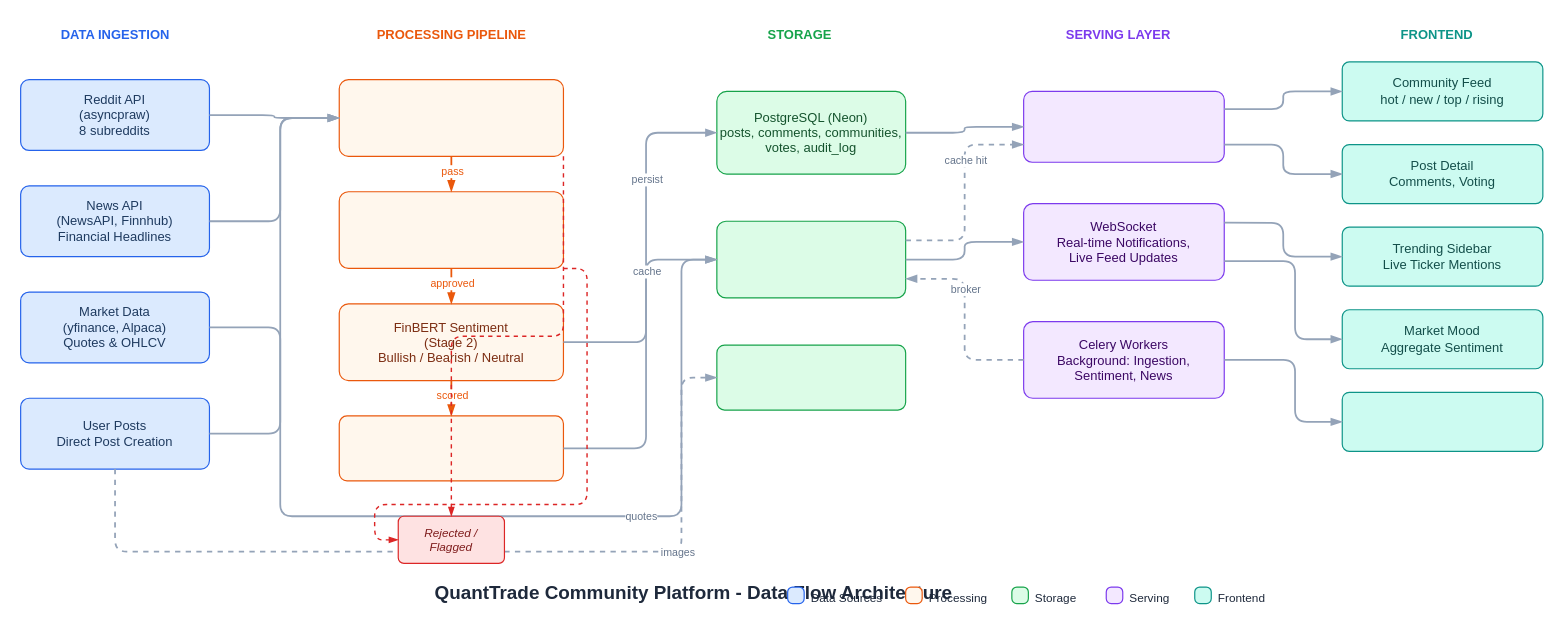
Some shapes in this 1563 by 630 pixel diagram are drawn without their labels. Here are the shapes that lost their labels. From the top down, the box of each, then its label:
(338, 78, 563, 156): AutoMod Rules Engine (Stage 0) Keyword, Regex, Account Age
(1022, 90, 1224, 162): REST API (FastAPI) Feeds, Posts, Comments, Search
(338, 191, 563, 268): AI Moderation (Stage 1) Claude Analysis, Risk Scoring
(716, 220, 906, 298): Redis Cache feed cache, quote cache, session store
(716, 344, 906, 410): S3 / R2 Image Uploads
(1341, 391, 1543, 451): Moderation Dashboard Queue, Actions, Audit
(338, 415, 563, 481): Hot Score Calculator Reddit-style Ranking
